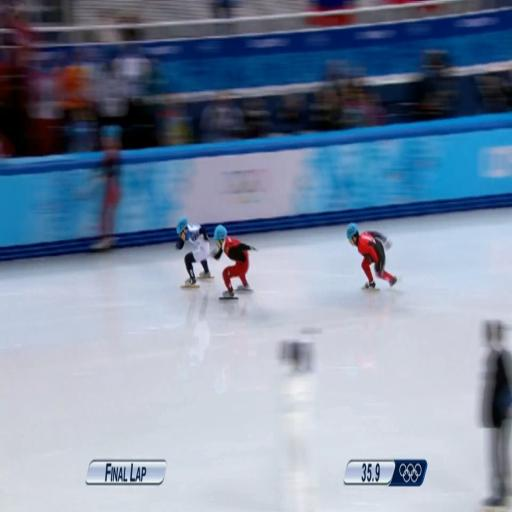Skater: (347, 223, 397, 289), (212, 225, 255, 299), (176, 217, 212, 287)
